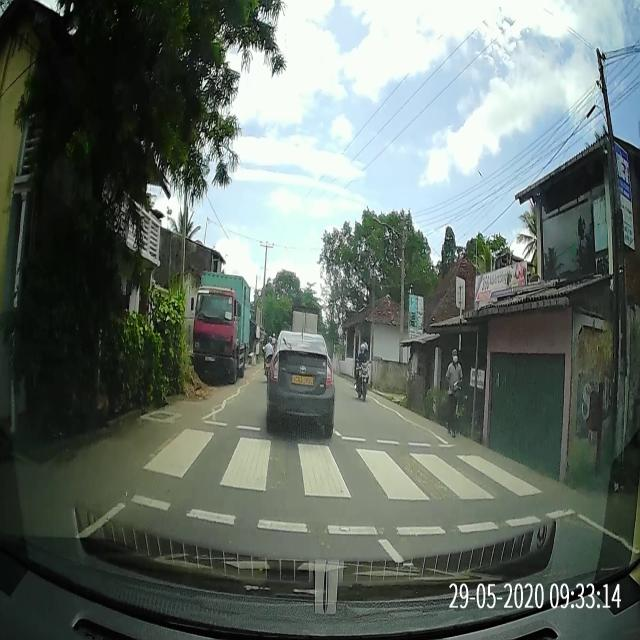Crosswalk: (97, 414, 590, 542)
